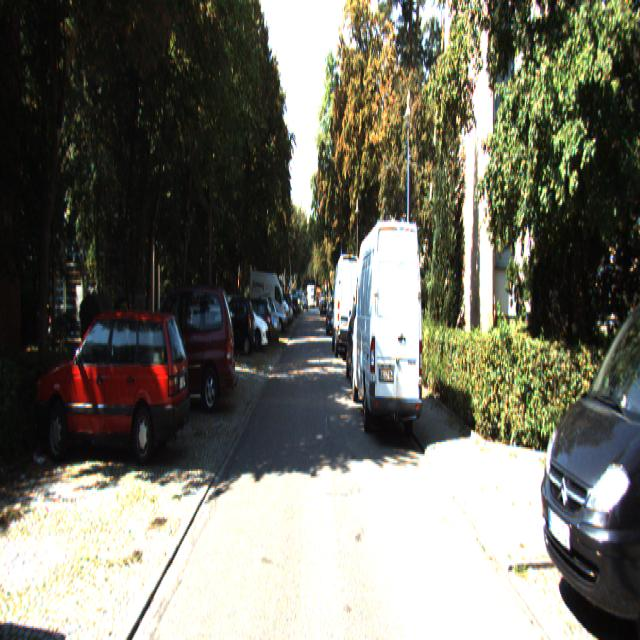Car: (538, 274, 640, 638), (36, 309, 192, 470), (130, 280, 236, 418), (223, 296, 269, 357), (213, 297, 255, 360)
DontCare: (310, 294, 332, 326), (290, 292, 307, 314)
Van: (352, 218, 424, 436), (332, 253, 362, 358), (249, 268, 290, 335)
